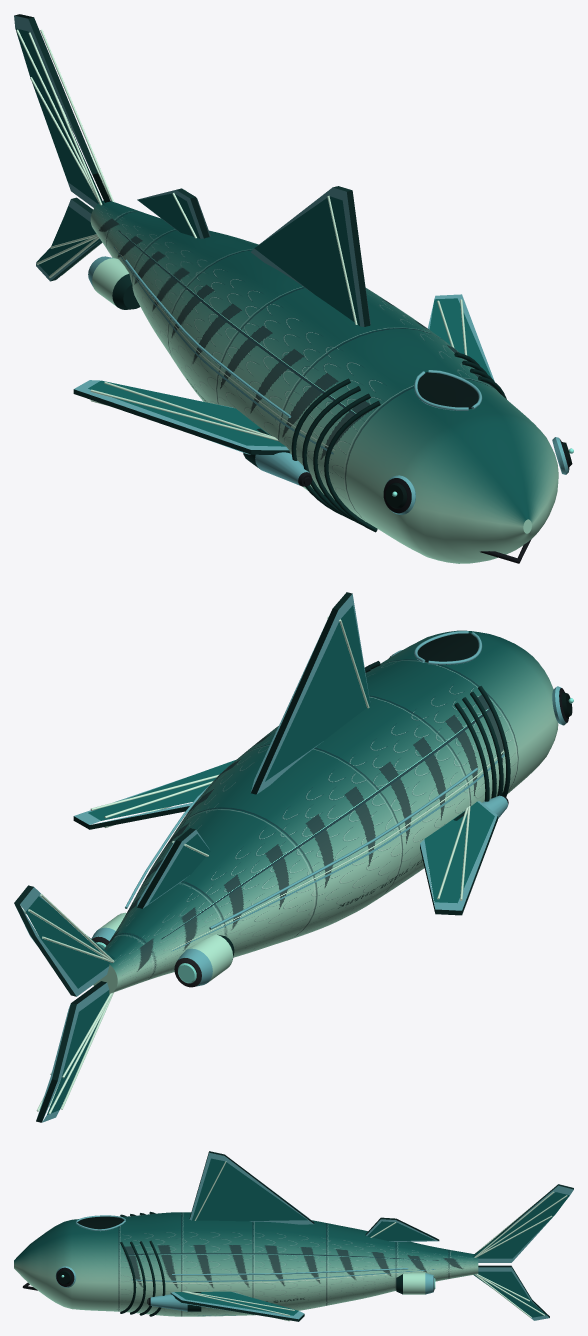
3 views of the same model, one above another, from view 1: azimuth 30°, elevation 25°; view 2: azimuth 150°, elevation 25°; view 3: azimuth 270°, elevation 25° (orthographic). The views are drawn at different scales.
Parts seen in each view (by area): view 1: tiger_shark_hull; view 2: tiger_shark_hull; view 3: tiger_shark_hull.
Boxes of the visible parts, bbox=[...] form: tiger_shark_hull: bbox=[14, 14, 573, 563]; tiger_shark_hull: bbox=[14, 592, 573, 1122]; tiger_shark_hull: bbox=[14, 1151, 573, 1321].
Bounding box in the file's own units: 35.12 × 26.52 × 80.
Materials: 1 (1 with a texture image).
